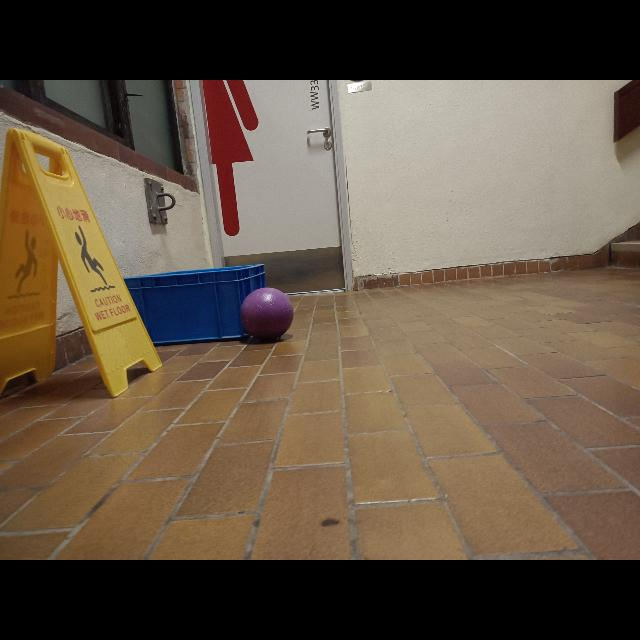P: (240, 287, 292, 339)
